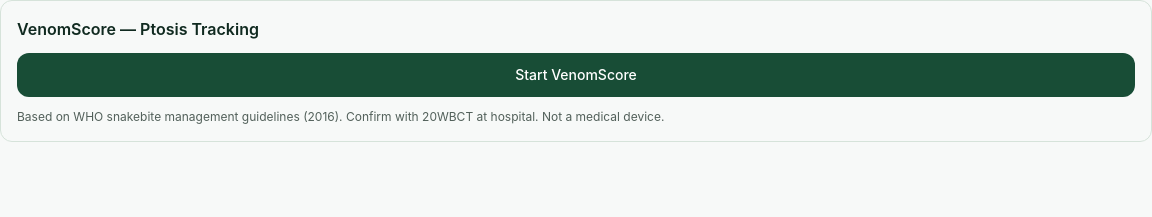
Test: VenomScore component › renders the camera-permission error state when getUserMedia rejects
This screenshot has width=1152, height=217.
Click the button "Start VenomScore". click: (576, 75)
box: [17,53,1135,97]
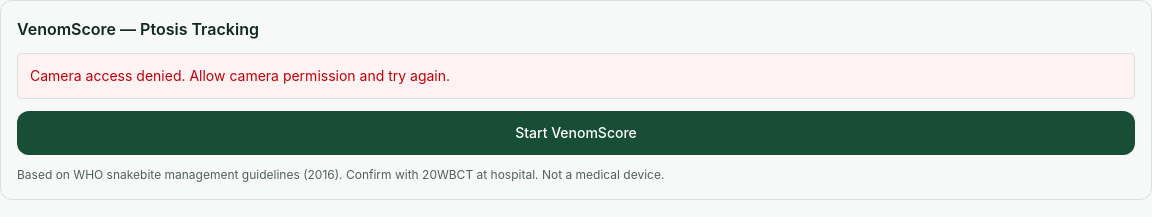
Now the text "Camera access denied. Allow camera permission and try again." is shown, box [17,53,1135,99]
